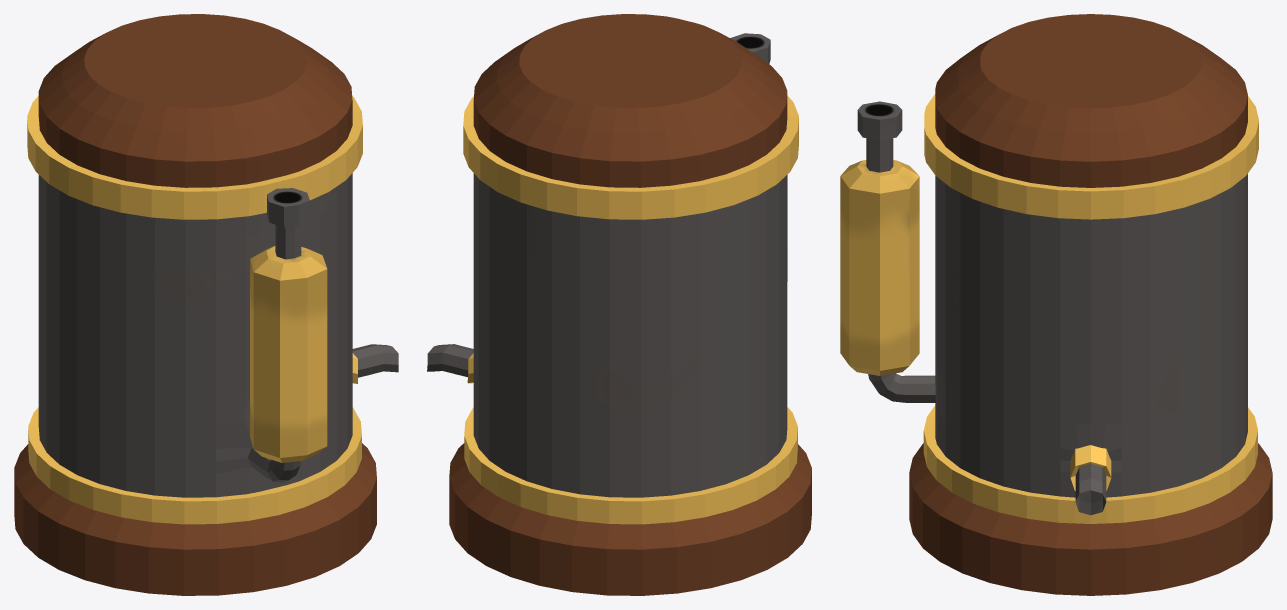
The model's file is maquina.fbx.
3 views of the same model, side by side, from view 1: azimuth 30°, elevation 25°; view 2: azimuth 150°, elevation 25°; view 3: azimuth 270°, elevation 25° (orthographic).
Visible parts, largest first — view 1: Cylinder; view 2: Cylinder; view 3: Cylinder.
Boxes of the visible parts, <box> form: Cylinder: <box>14,14,398,595</box>; Cylinder: <box>427,14,811,595</box>; Cylinder: <box>840,14,1272,595</box>.
Size of the model in its own units: 373 by 460 by 394.
Materials: 2 (2 with a texture image).
